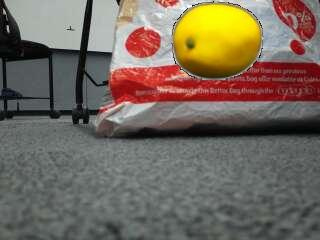lemon: (174, 3, 260, 77)
